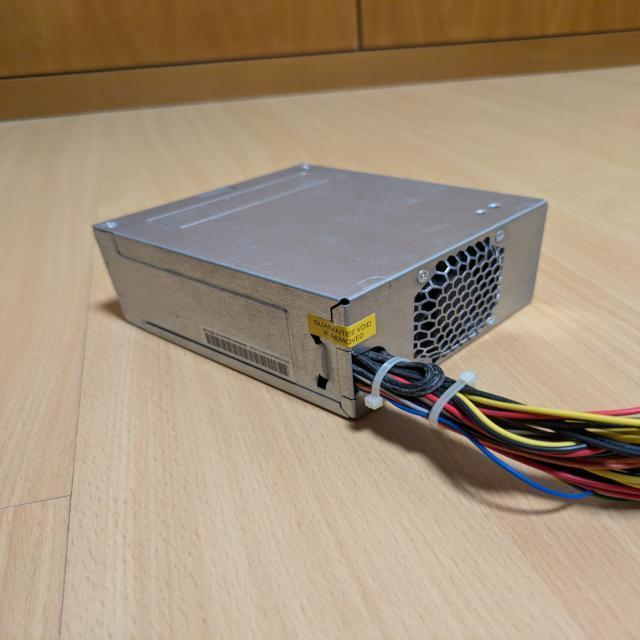PSU: (92, 164, 550, 422)
